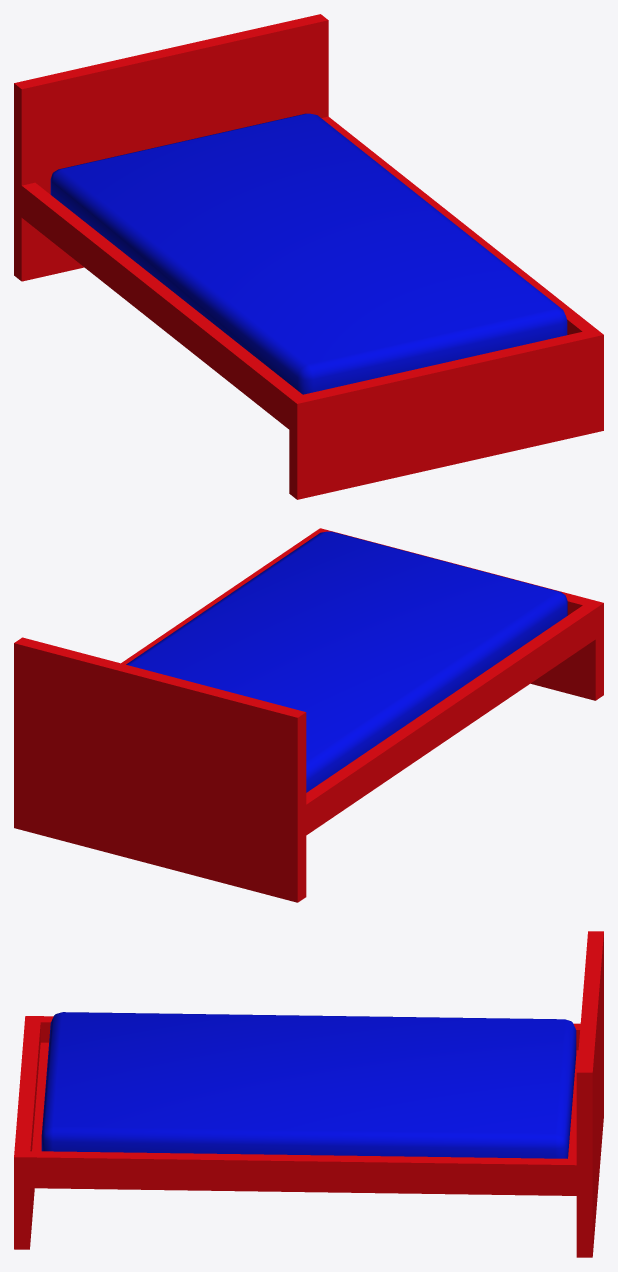
File: Bed.fbx
The picture shows the model from 3 angles, top to bottom: view 1: azimuth 30°, elevation 25°; view 2: azimuth 150°, elevation 25°; view 3: azimuth 270°, elevation 25°; orthographic projection. The views are drawn at different scales.
Parts seen in each view (by area): view 1: Bed; view 2: Bed; view 3: Bed.
Part boxes in pixels (x1=…): Bed: x1=14, y1=14, x2=603, y2=499; Bed: x1=14, y1=528, x2=603, y2=902; Bed: x1=14, y1=931, x2=603, y2=1257.
Size of the model in its own units: 111 by 63.94 by 185.
